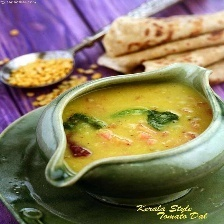dal: (46, 73, 216, 176)
